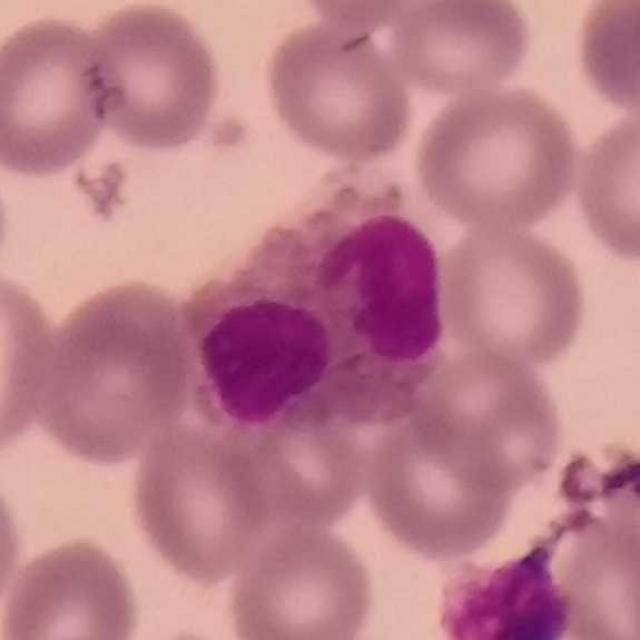Eosinophil: (187, 166, 453, 438), (433, 537, 591, 639)
RBC: (31, 274, 199, 465), (409, 80, 583, 234), (125, 418, 277, 586), (360, 405, 518, 562), (258, 14, 418, 166), (435, 219, 592, 373), (409, 343, 566, 495), (78, 0, 226, 155), (0, 10, 119, 181), (223, 520, 379, 640), (220, 421, 372, 533), (0, 532, 145, 640), (385, 0, 537, 96), (545, 503, 640, 640), (0, 260, 62, 461), (570, 99, 640, 268), (570, 1, 640, 118), (0, 462, 27, 630), (289, 0, 421, 32)
